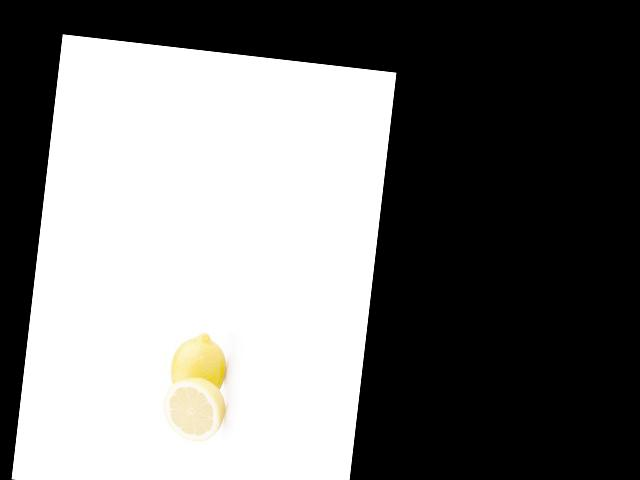lemon: (163, 323, 235, 403)
